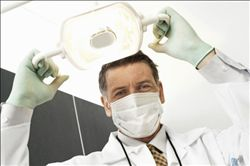face_mask: (108, 66, 162, 135)
